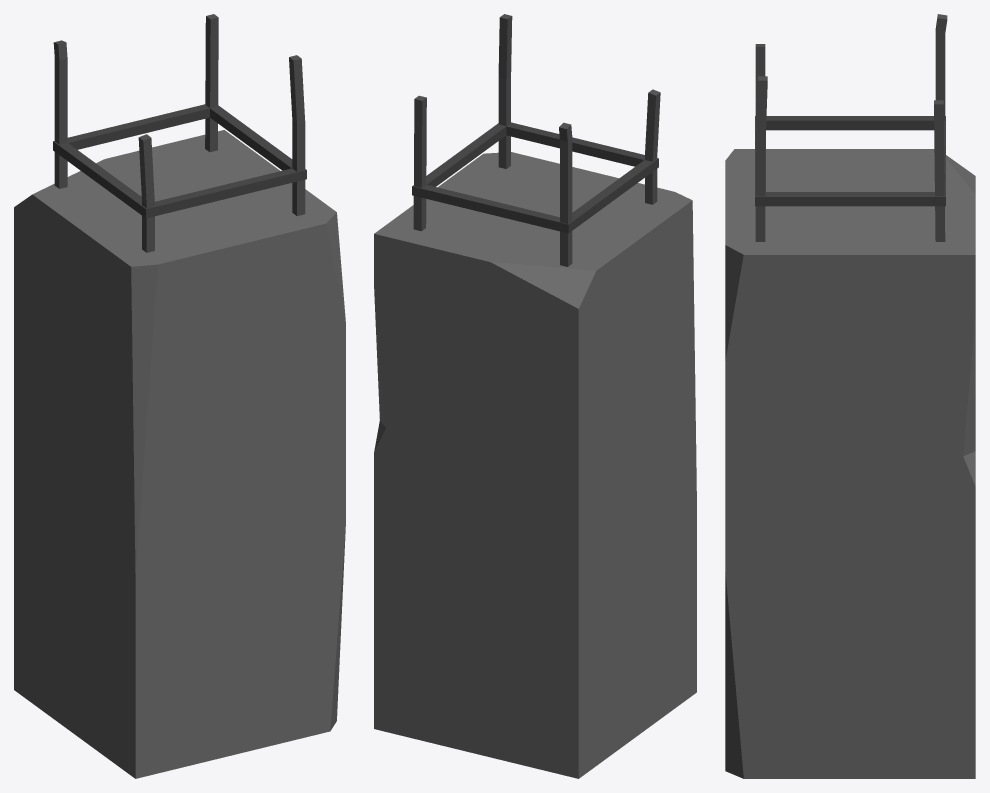
Rendered from WallCorner_03.fbx.
3 views of the same model, side by side, from view 1: azimuth 30°, elevation 25°; view 2: azimuth 150°, elevation 25°; view 3: azimuth 270°, elevation 25° (orthographic). The views are drawn at different scales.
Visible parts, largest first — view 1: WallCorner_03; view 2: WallCorner_03; view 3: WallCorner_03.
Part boxes in pixels (bbox=[...]): WallCorner_03: bbox=[14, 14, 345, 778]; WallCorner_03: bbox=[374, 14, 696, 778]; WallCorner_03: bbox=[725, 14, 975, 778].
Bounding box in the file's own units: 86.49 × 261 × 86.49.
